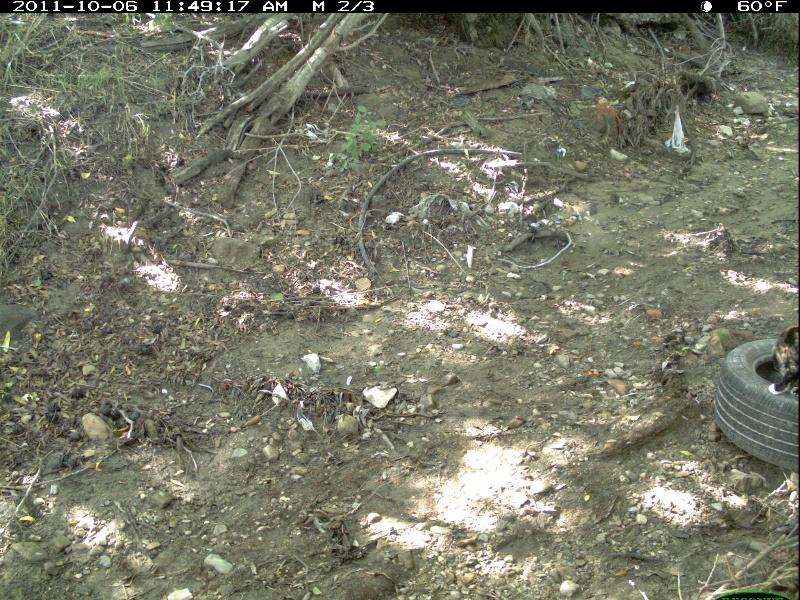cat: (769, 326, 797, 394)
